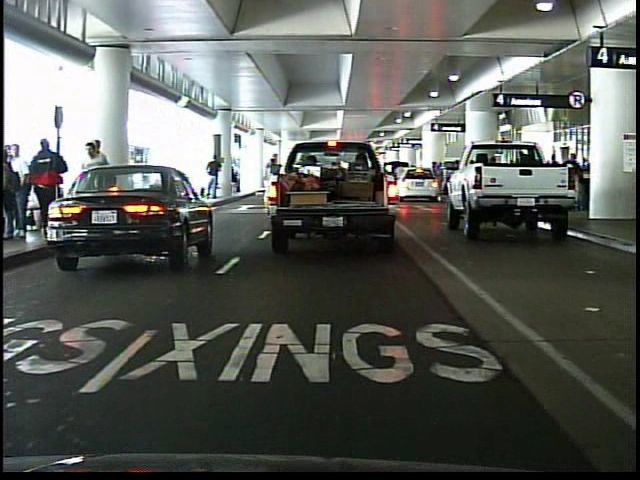person: (25, 135, 71, 243)
